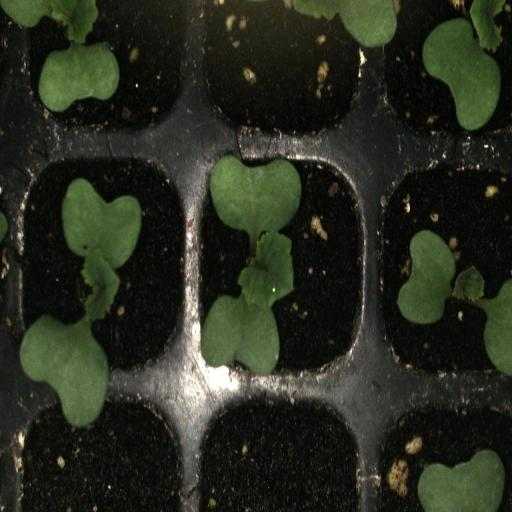noseedling: (196, 377, 370, 512), (12, 388, 196, 512)
seedling: (193, 149, 373, 387), (13, 148, 196, 378), (372, 152, 512, 384), (10, 0, 198, 145), (376, 0, 512, 145)
